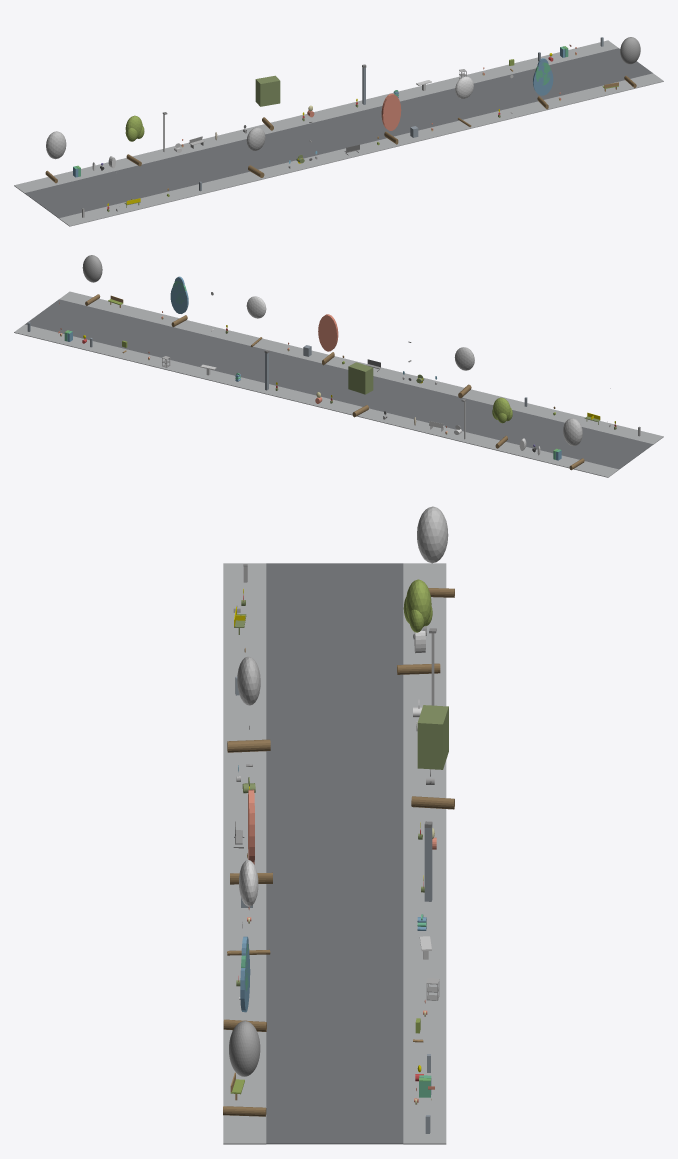
The picture shows the model from 3 angles, top to bottom: view 1: azimuth 30°, elevation 25°; view 2: azimuth 150°, elevation 25°; view 3: azimuth 270°, elevation 25°; orthographic projection. The views are drawn at different scales.
Parts seen in each view (by area): view 1: road_slab, sidewalk_left, sidewalk_right, inst_0021, inst_0022, inst_0024, inst_0018, inst_0025, inst_0019, inst_0020, inst_0023; view 2: road_slab, sidewalk_right, sidewalk_left, inst_0021, inst_0022, inst_0024, inst_0018, inst_0025, inst_0019, inst_0020, inst_0023; view 3: road_slab, sidewalk_right, sidewalk_left, inst_0021, inst_0025, inst_0018, inst_0019, inst_0020, inst_0024, inst_0023.
Boxes of the visible parts, <box> form: road_slab: <box>24,48,652,218</box>; sidewalk_left: <box>59,73,663,226</box>; sidewalk_right: <box>14,40,618,193</box>; inst_0021: <box>255,75,280,130</box>; inst_0022: <box>381,93,401,144</box>; inst_0024: <box>533,58,553,109</box>; inst_0018: <box>45,131,66,183</box>; inst_0025: <box>620,37,640,88</box>; inst_0019: <box>125,115,144,166</box>; inst_0020: <box>246,127,265,177</box>; inst_0023: <box>455,76,473,127</box>; road_slab: <box>25,299,653,469</box>; sidewalk_right: <box>14,324,618,477</box>; sidewalk_left: <box>59,291,663,444</box>; inst_0021: <box>348,362,373,417</box>; inst_0022: <box>318,314,338,365</box>; inst_0024: <box>170,276,188,327</box>; inst_0018: <box>563,418,584,470</box>; inst_0025: <box>82,255,102,305</box>; inst_0019: <box>492,397,512,448</box>; inst_0020: <box>454,347,474,398</box>; inst_0023: <box>246,296,266,346</box>; road_slab: <box>266,563,403,1144</box>; sidewalk_right: <box>403,563,446,1144</box>; sidewalk_left: <box>223,563,266,1144</box>; inst_0021: <box>411,705,454,809</box>; inst_0025: <box>223,1021,266,1116</box>; inst_0018: <box>417,506,454,597</box>; inst_0019: <box>397,579,440,674</box>; inst_0020: <box>227,656,270,752</box>; inst_0024: <box>223,936,266,1031</box>; inst_0023: <box>227,860,270,955</box>.
Size of the model in its own units: 80 by 6.08 by 13.53.
